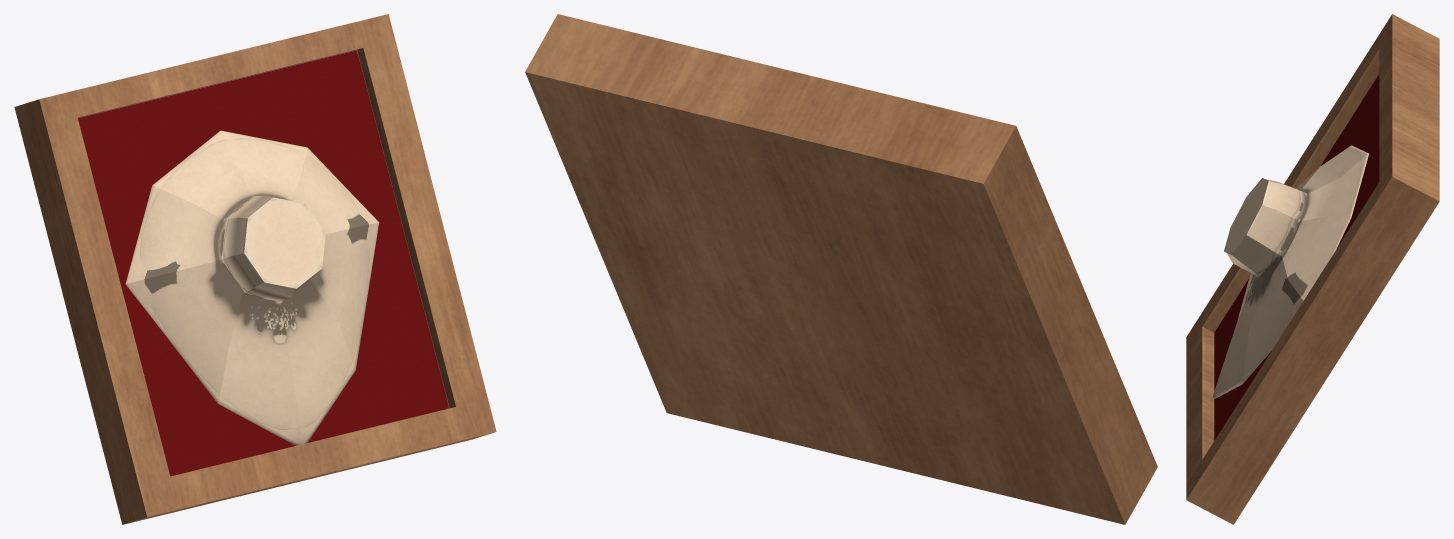
File: LoseNecklace.glb
The picture shows the model from 3 angles, left to right: view 1: azimuth 30°, elevation 25°; view 2: azimuth 150°, elevation 25°; view 3: azimuth 270°, elevation 25°; orthographic projection. The views are drawn at different scales.
Parts seen in each view (by area): view 1: Necklace_Box_Outside, Necklace_Holder, Necklace_Box_Inside; view 2: Necklace_Box_Outside; view 3: Necklace_Box_Outside, Necklace_Holder, Necklace_Box_Inside.
Boxes of the visible parts, x1,y1,x2,y2 form: Necklace_Box_Outside: (14, 14, 496, 524); Necklace_Holder: (125, 130, 379, 445); Necklace_Box_Inside: (78, 50, 449, 476); Necklace_Box_Outside: (525, 14, 1157, 524); Necklace_Box_Outside: (1186, 14, 1439, 524); Necklace_Holder: (1213, 145, 1368, 399); Necklace_Box_Inside: (1214, 74, 1379, 440).
Bounding box in the file's own units: 1.48 × 1.48 × 0.9745.
2 materials, 2 textured.
